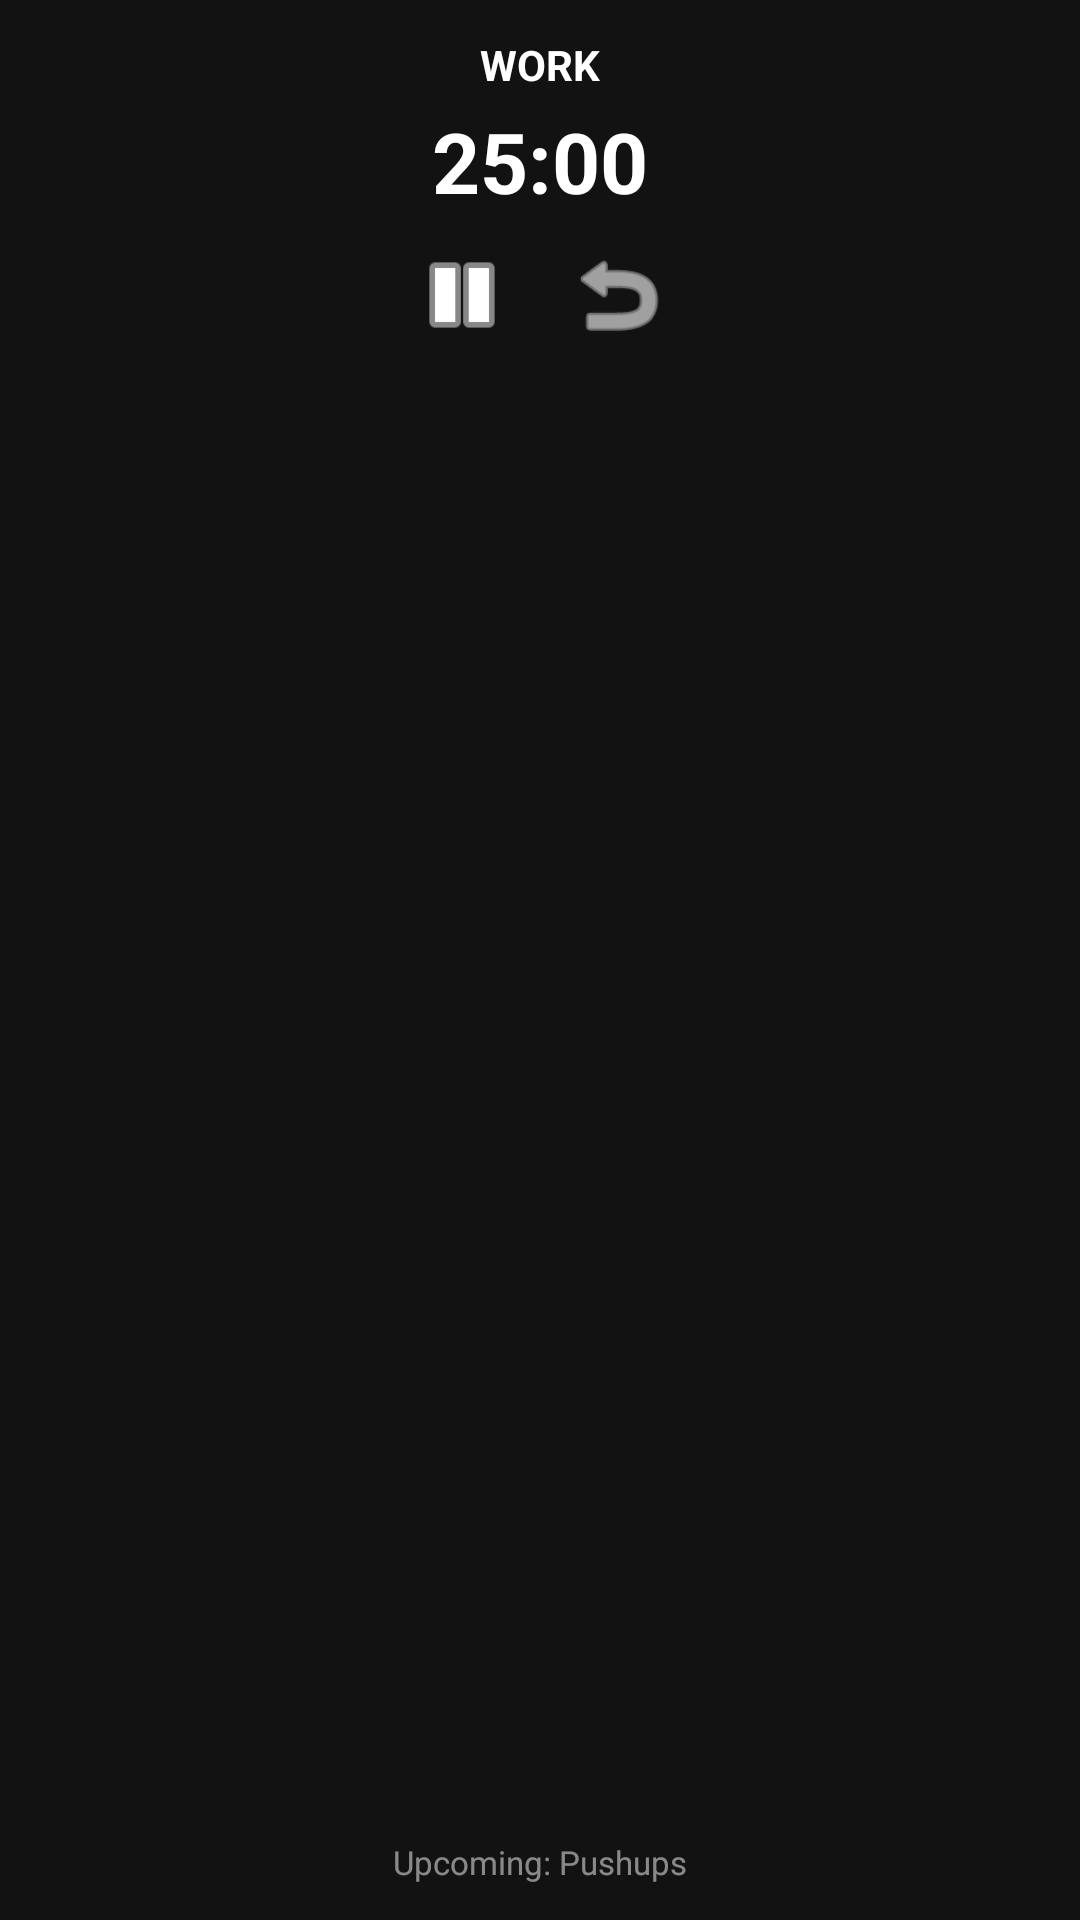

Icons on this 1080×1920 Android screen, each with its box as (x1, y1, x2, y2):
pause: (429, 262, 495, 328)
revert: (580, 261, 658, 331)
